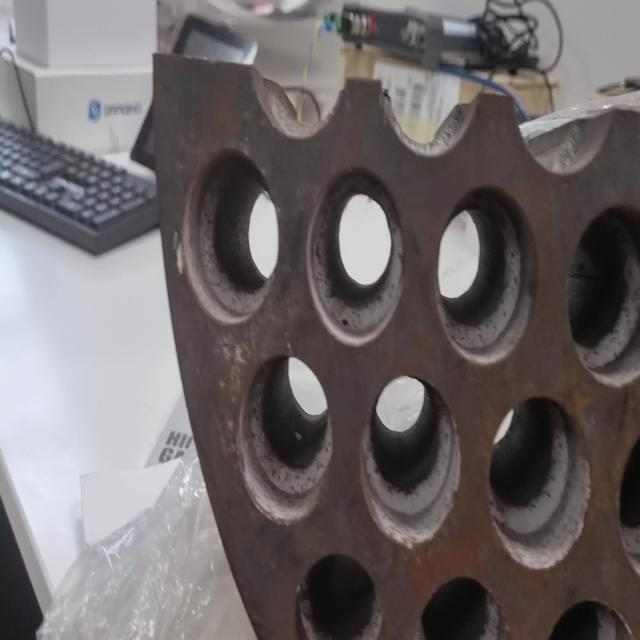Hole: (434, 184, 538, 365), (178, 147, 281, 325), (488, 394, 592, 570), (359, 374, 462, 550), (306, 166, 404, 347), (236, 352, 332, 526), (566, 202, 640, 390), (294, 551, 382, 640), (416, 574, 518, 640), (540, 596, 640, 640), (617, 414, 640, 586)
